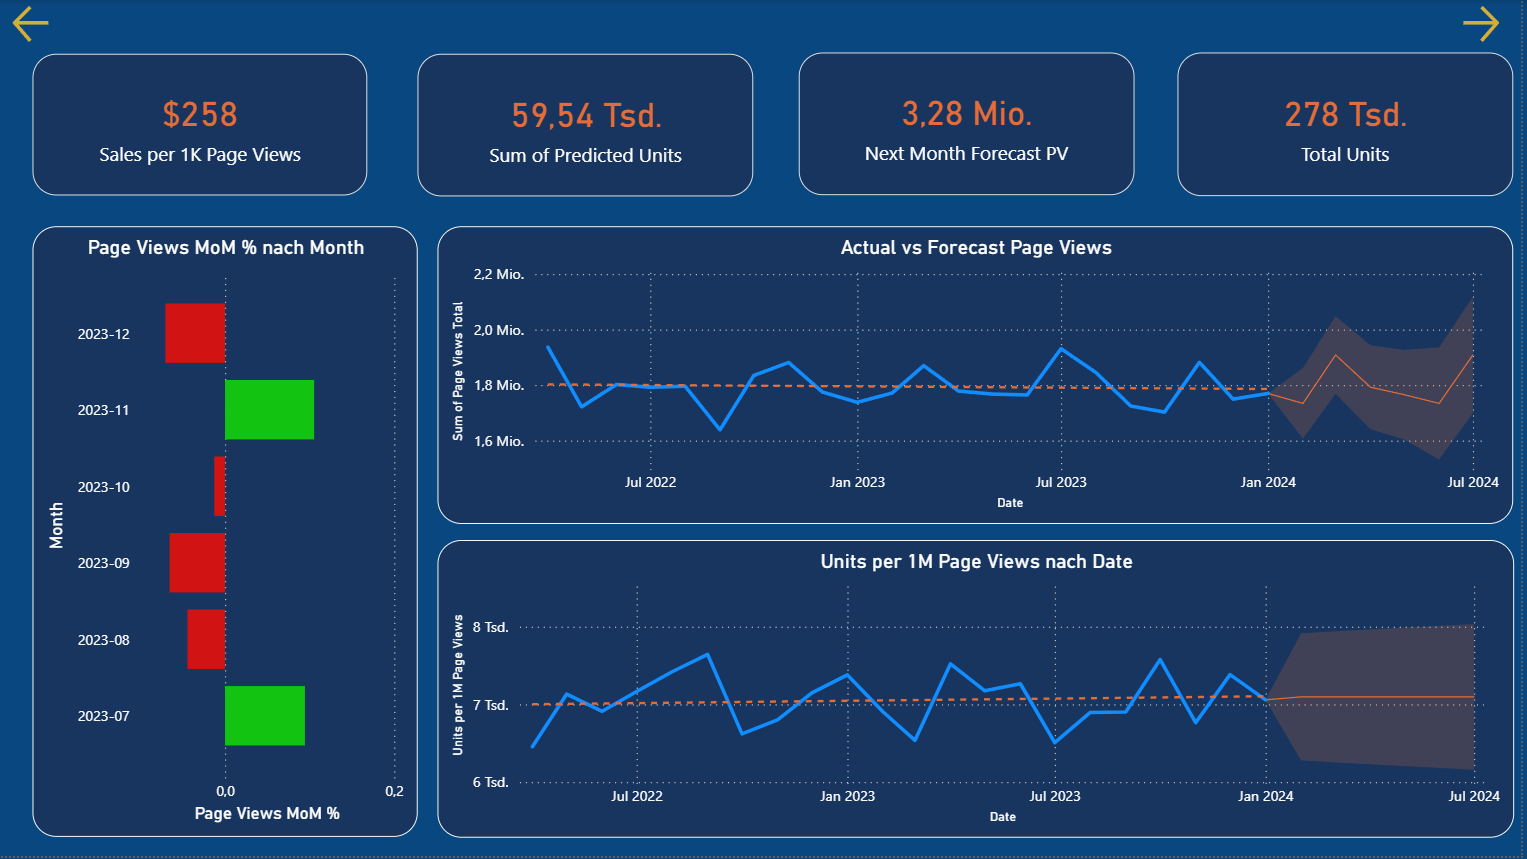

The dashboard page shown, as its layout file describes it:
{"tool":"powerbi","page":{"name":"Page Views Estimation 2(forecast))","canvas":[1280,720],"ordinal":3},"visuals":[{"type":"lineChart","title":"Actual vs Forecast Page Views","fields":{"Y":["Sum(final_fact.page_views_total)"],"Category":["DimDate.Date"]},"box":[368.1,190.6,904.9,250.4],"z":0},{"type":"card","fields":{"Values":["Sum(forecast_units.predicted_units)"]},"box":[351,44.9,282.8,120.3],"z":1000},{"type":"card","fields":{"Values":["Page Views Estimation.Next Month Forecast PV"]},"box":[671.4,43.9,282.3,120],"z":2000},{"type":"barChart","fields":{"Category":["DimDate.Month"],"Y":["Page Views Estimation.Page Views MoM %"]},"box":[26.9,190.6,324.2,513.8],"z":3000},{"type":"lineChart","fields":{"Category":["DimDate.Date"],"Y":["Page Views Estimation.Units per 1M Page Views"]},"box":[368.1,453.9,905.9,250.4],"z":4000},{"type":"card","fields":{"Values":["Page Views Estimation.Total Units"]},"box":[990.7,43.9,282.3,120.7],"z":5000},{"type":"card","fields":{"Values":["Yeni Measure.Sales per 1K Page Views"]},"box":[26.9,44.9,281.9,119.4],"z":6000},{"type":"actionButton","box":[6.3,0,47.6,40.4],"z":7000},{"type":"actionButton","box":[1224.5,0,49.4,40.4],"z":8000}]}

Visuals, with their boxes in screenshot pixels (x1, y1, x2, y2), scaled from the page's 1280x720 canvas onto the 1527x859 screenshot:
"Actual vs Forecast Page Views" lineChart: detection(439, 227, 1519, 526)
card - Sum(forecast_units.predicted_units): detection(419, 54, 756, 197)
card - Page Views Estimation.Next Month Forecast PV: detection(801, 52, 1138, 196)
barChart - DimDate.Month x Page Views Estimation.Page Views MoM %: detection(32, 227, 419, 840)
lineChart - DimDate.Date x Page Views Estimation.Units per 1M Page Views: detection(439, 542, 1520, 840)
card - Page Views Estimation.Total Units: detection(1182, 52, 1519, 196)
card - Yeni Measure.Sales per 1K Page Views: detection(32, 54, 368, 196)
actionButton: detection(8, 0, 64, 48)
actionButton: detection(1461, 0, 1520, 48)
